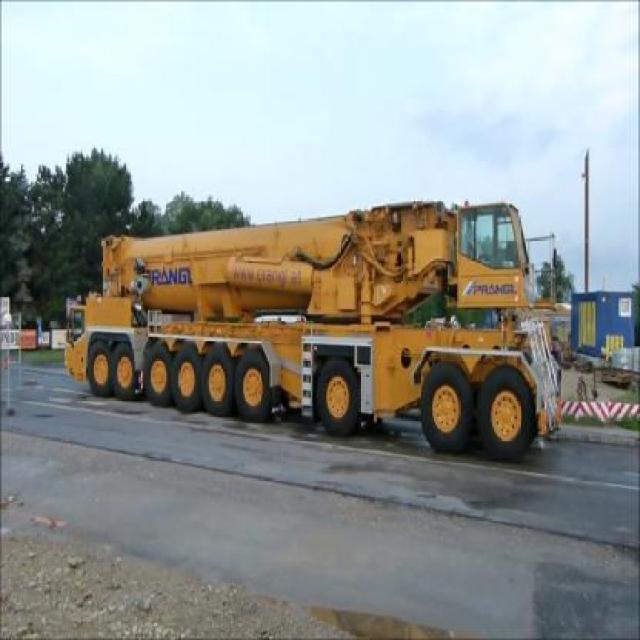Mobile Crane: (71, 198, 558, 465)
